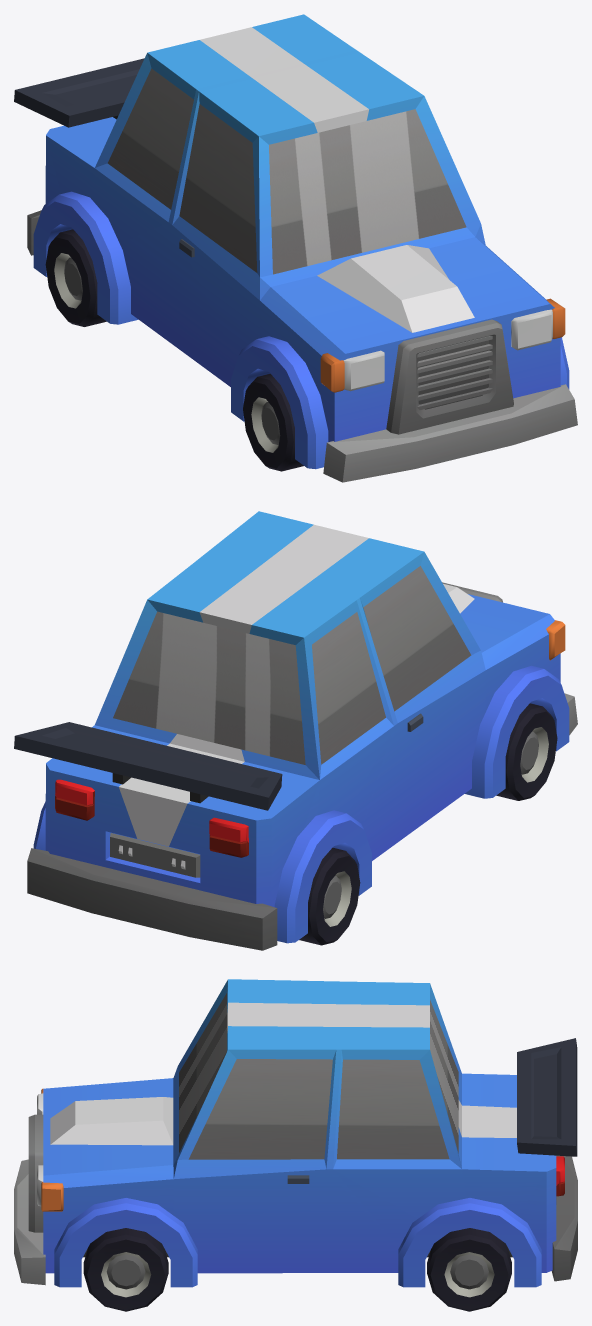
The model's file is SportCar_1.fbx.
The picture shows the model from 3 angles, top to bottom: view 1: azimuth 30°, elevation 25°; view 2: azimuth 150°, elevation 25°; view 3: azimuth 270°, elevation 25°; orthographic projection. The views are drawn at different scales.
Visible parts, largest first — view 1: SportCar_1, Wheel_fr, Wheel_br; view 2: SportCar_1, Wheel_br, Wheel_fr; view 3: SportCar_1, Wheel_fl, Wheel_bl.
Part boxes in pixels (x1,y1,x2,y2): SportCar_1: [14, 14, 577, 482]; Wheel_fr: [243, 373, 303, 471]; Wheel_br: [45, 229, 106, 326]; SportCar_1: [14, 511, 577, 950]; Wheel_br: [299, 847, 360, 945]; Wheel_fr: [496, 703, 557, 800]; SportCar_1: [14, 979, 577, 1287]; Wheel_fl: [83, 1228, 168, 1311]; Wheel_bl: [427, 1228, 511, 1311].
Size of the model in its own units: 112 by 110 by 233.
